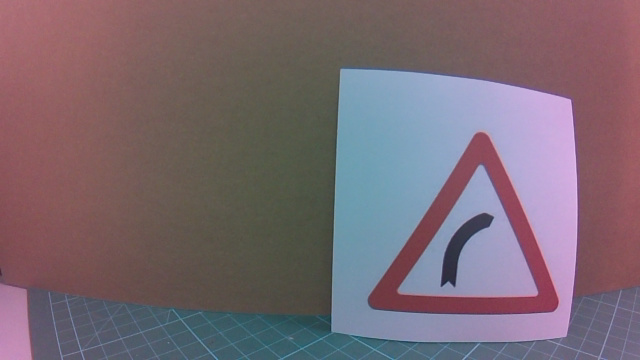right: (392, 140, 592, 316)
